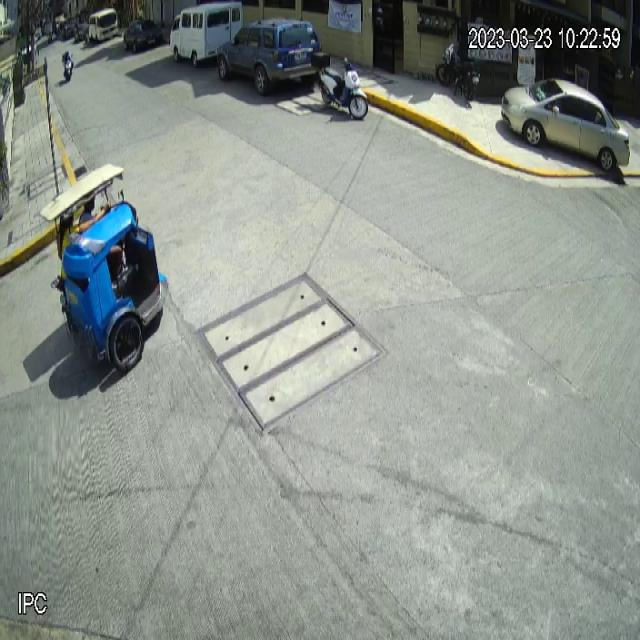Car: (501, 79, 631, 172), (217, 16, 322, 96)
Motorcycle: (311, 52, 369, 121)
Tricycle: (39, 161, 169, 372)
Van: (170, 0, 243, 67)
